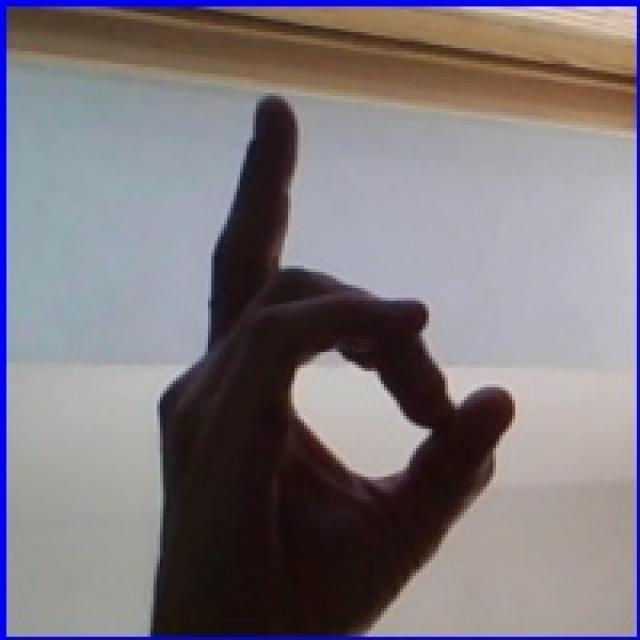D: (118, 57, 540, 640)
